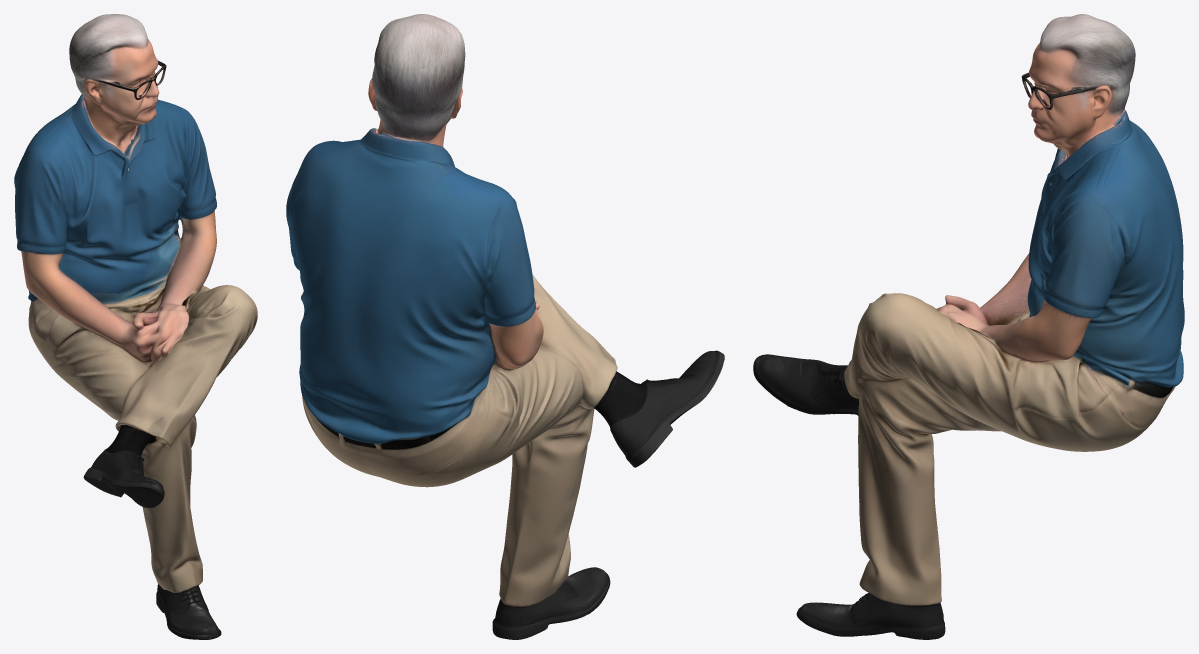
File: contemplative_moment_in_a_blue_polo.glb
The picture shows the model from 3 angles, left to right: view 1: azimuth 30°, elevation 25°; view 2: azimuth 150°, elevation 25°; view 3: azimuth 270°, elevation 25°; orthographic projection. The views are drawn at different scales.
Visible parts, largest first — view 1: Object_5, Object_6, Object_7; view 2: Object_6, Object_5, Object_7; view 3: Object_5, Object_6, Object_7.
Part boxes in pixels (x1,y1,x2,y2): Object_5: (14, 14, 236, 639); Object_6: (15, 14, 216, 608); Object_7: (83, 285, 257, 636); Object_6: (286, 14, 580, 639); Object_5: (293, 14, 724, 617); Object_7: (492, 274, 672, 633); Object_5: (753, 14, 1179, 636); Object_6: (902, 21, 1184, 637); Object_7: (831, 293, 943, 639).
Bounding box in the file's own units: 0.7937 × 1.9 × 1.2.
Materials: 1 (1 with a texture image).
